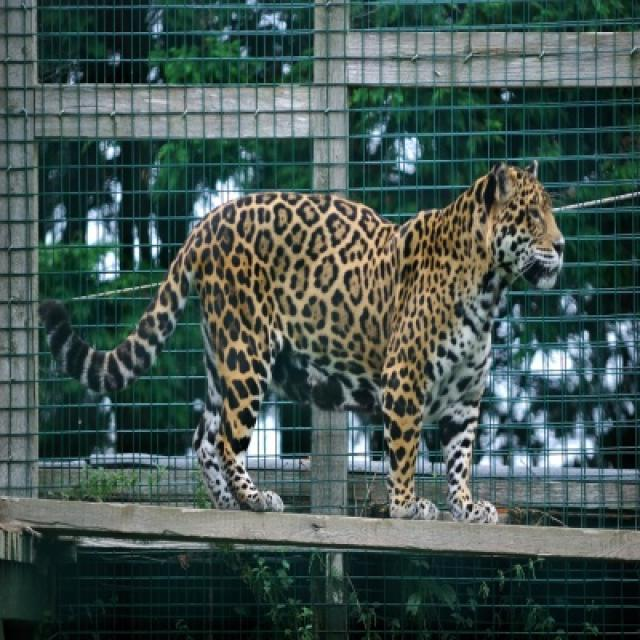not_pig: (37, 160, 565, 524)
